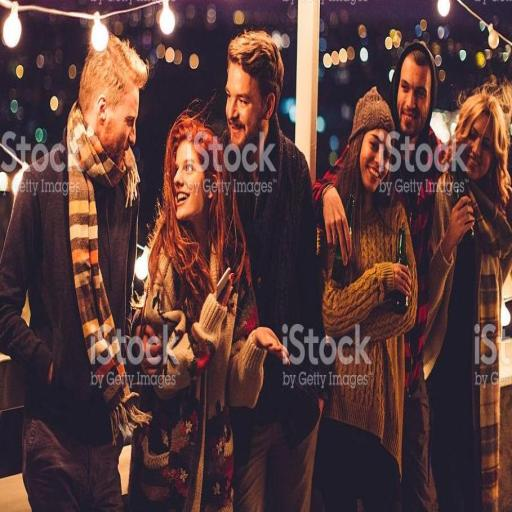person: (0, 36, 148, 511), (129, 112, 286, 511), (226, 32, 322, 511), (316, 87, 417, 511), (425, 83, 511, 511), (390, 42, 440, 511)
